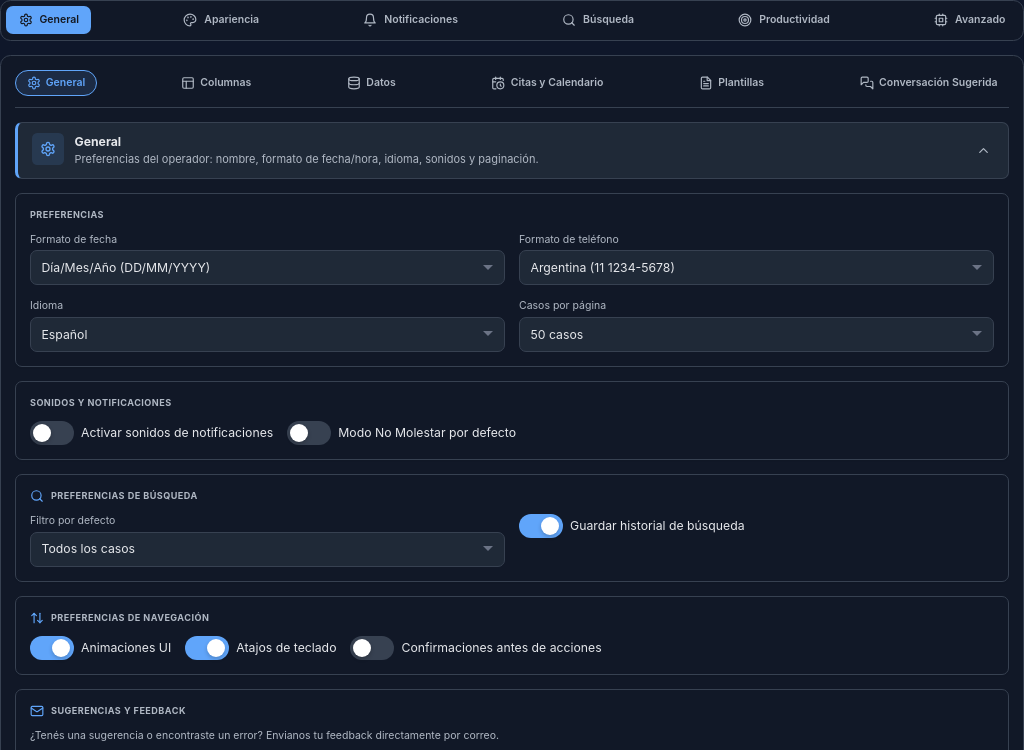
Test: ConfiguracionView › Alineación de pestañas: sección en UX/Navegación con descripción y default Centro
Step 1. Click the button "Apariencia" → (221, 20), box [171,6,271,34]
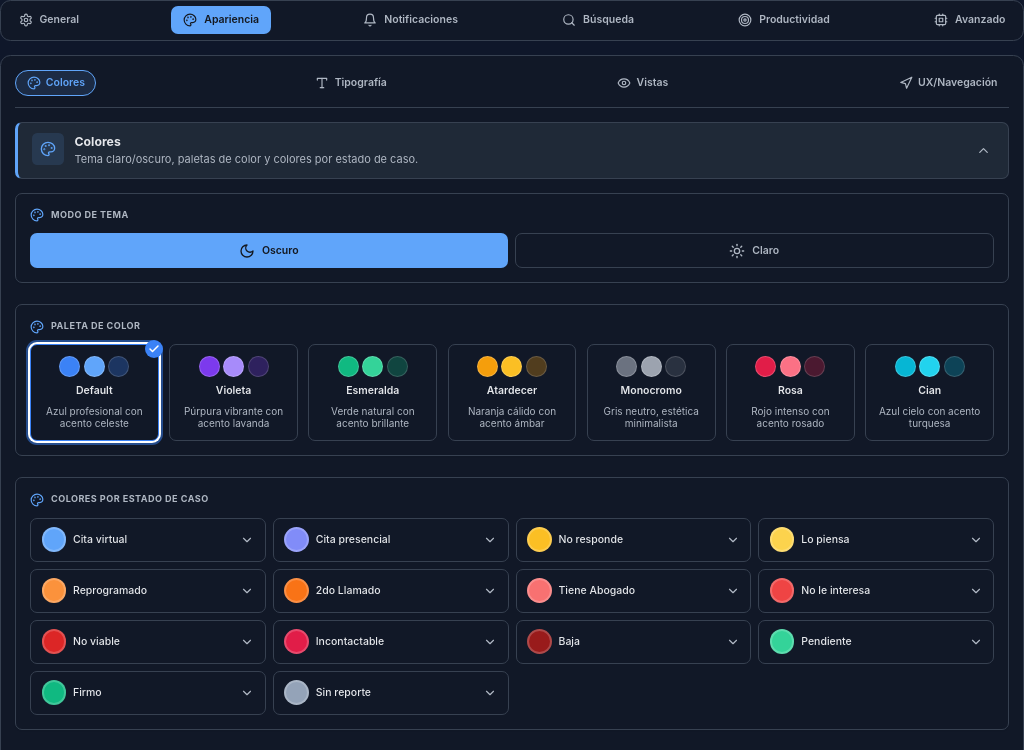
Step 2. Click the button "UX/Navegación" → (948, 83), box [887,70,1009,96]
(page scrolled)
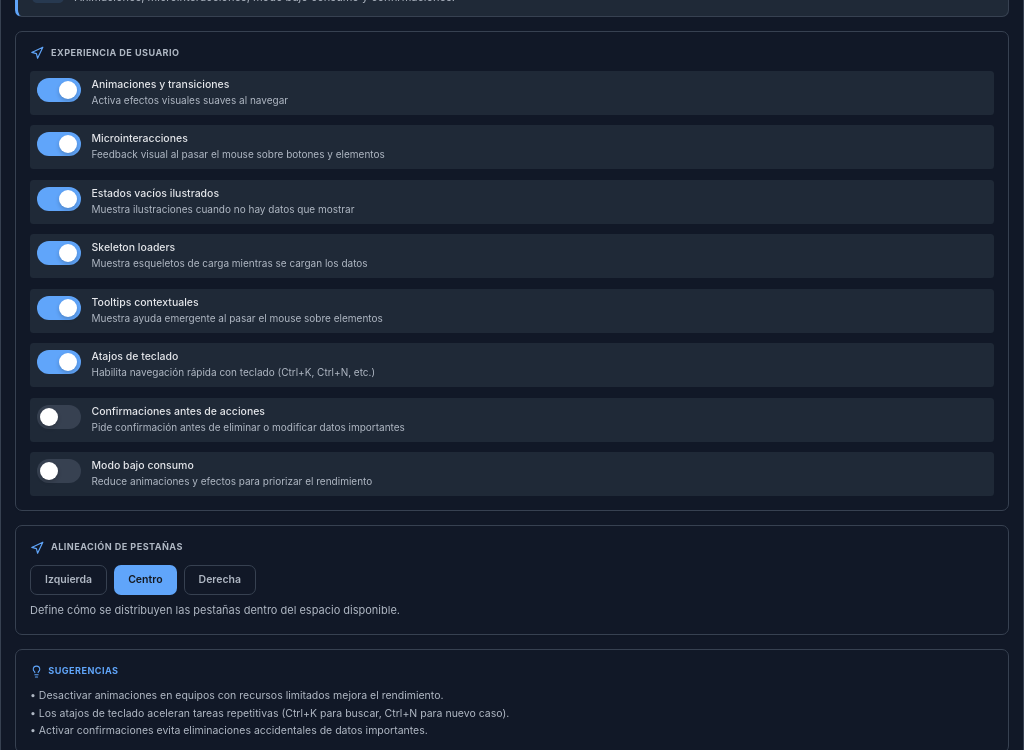
Expected: the radio button "Izquierda" is shown, [30,566,107,596]
Expected: the radio button "Centro" is shown, [114,566,176,596]
Expected: the radio button "Derecha" is shown, [184,566,256,596]
